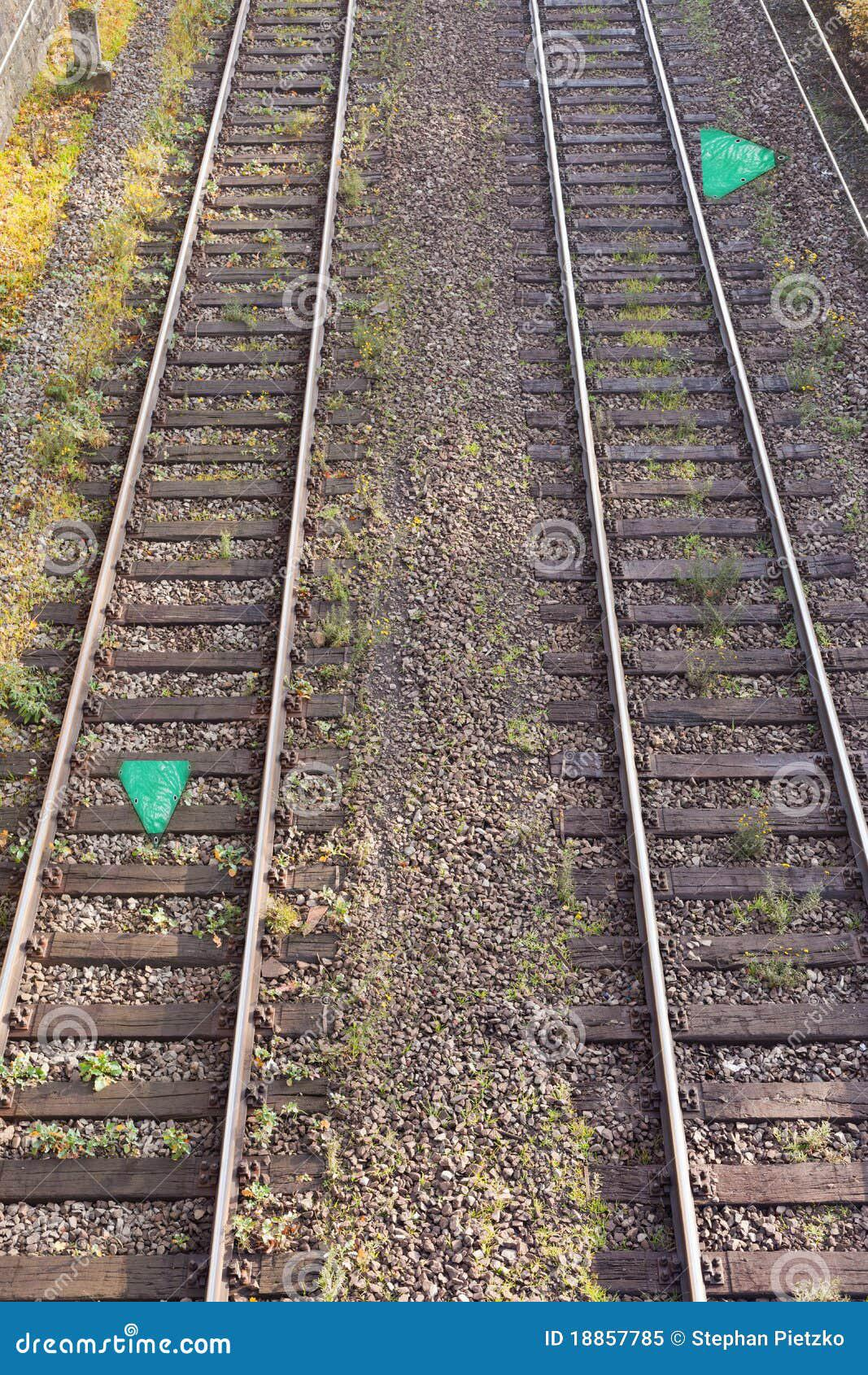Dust_screen: (98, 740, 201, 860), (700, 122, 786, 225)
